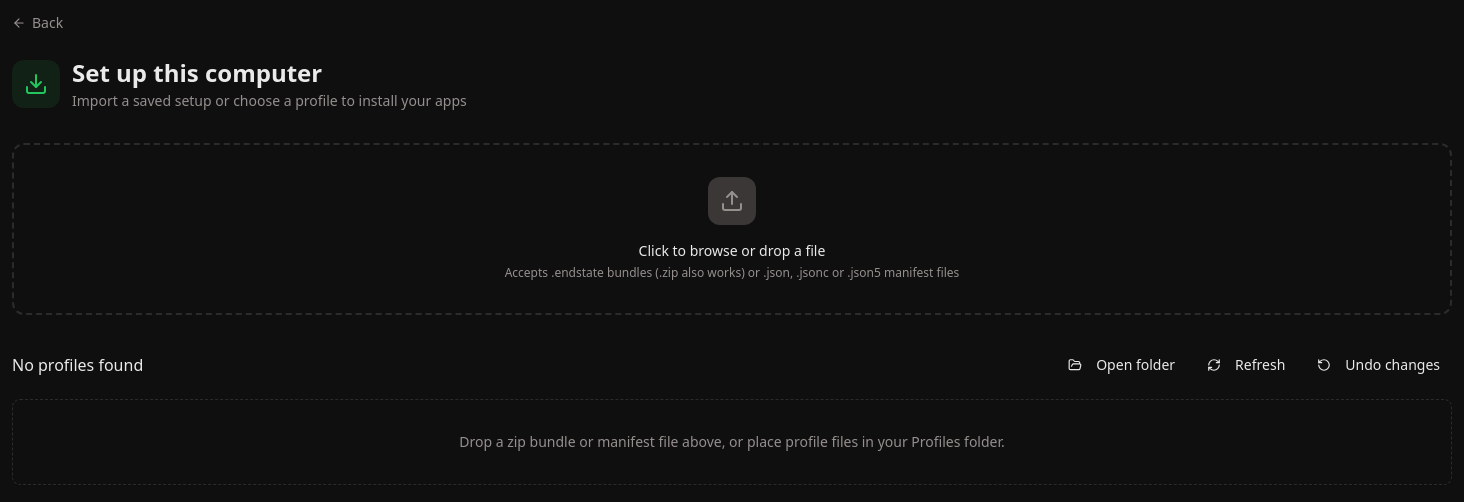
Scenario: SetupFlow — Undo settings › shows undo-empty when no history found
Click the button "Undo changes" at x=1379, y=365, box [1305,347,1452,383]
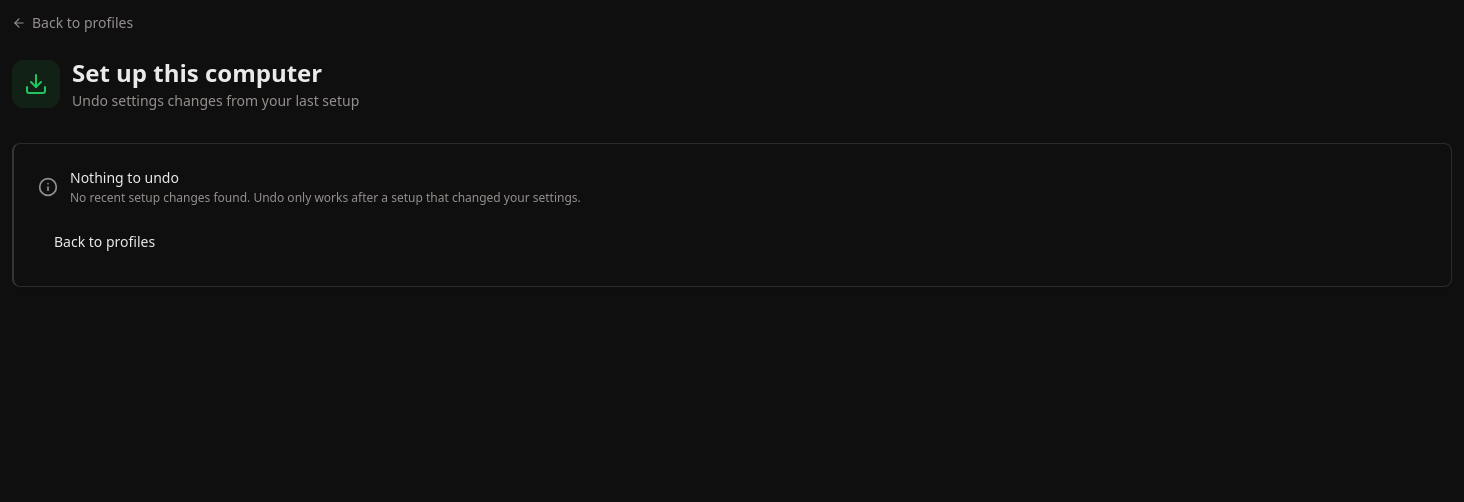
Now the text "Nothing to undo" is shown, box [70,168,179,187]
Now the text "No recent setup changes found" is shown, box [70,189,581,206]
